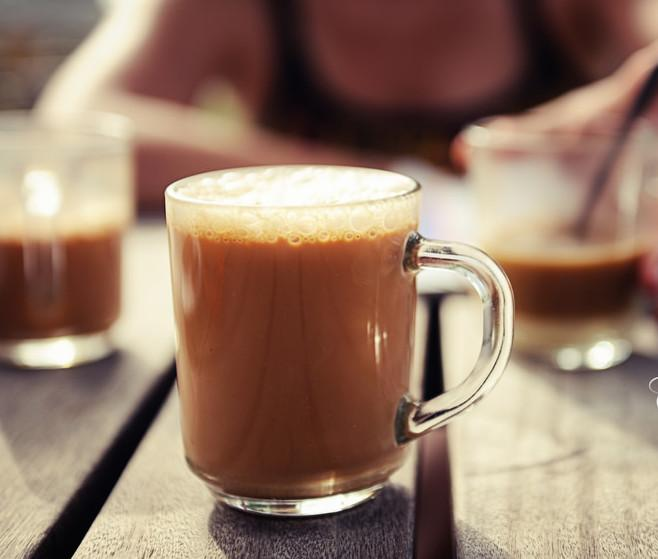produk_susu: (183, 182, 405, 463)
